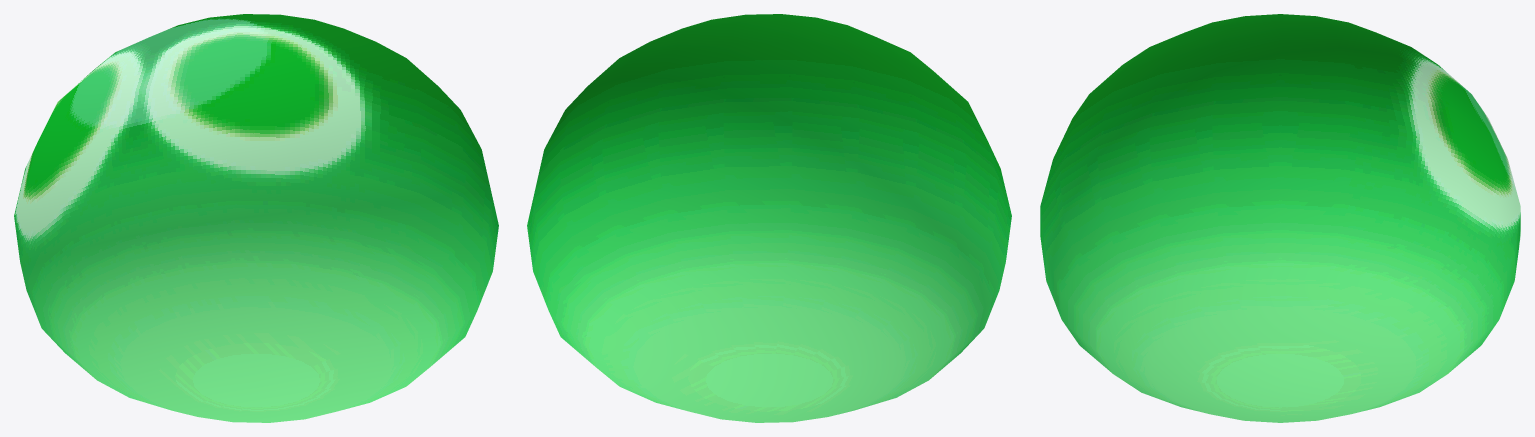
The model's file is ps2_save-icons_puyopuyo15thanniversary.glb.
3 views of the same model, side by side, from view 1: azimuth 30°, elevation 25°; view 2: azimuth 150°, elevation 25°; view 3: azimuth 270°, elevation 25° (orthographic).
Parts seen in each view (by area): view 1: puyo.ico; view 2: puyo.ico; view 3: puyo.ico.
Boxes of the visible parts, <box> form: puyo.ico: <box>14,14,498,422</box>; puyo.ico: <box>527,14,1011,422</box>; puyo.ico: <box>1040,14,1520,422</box>.
Size of the model in its own units: 4.67 by 3.6 by 4.62.
Materials: 1 (1 with a texture image).
